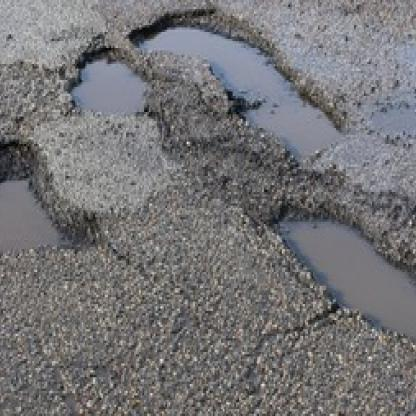pothole: (128, 5, 344, 165), (264, 199, 416, 366), (0, 137, 103, 256), (65, 43, 151, 119)
